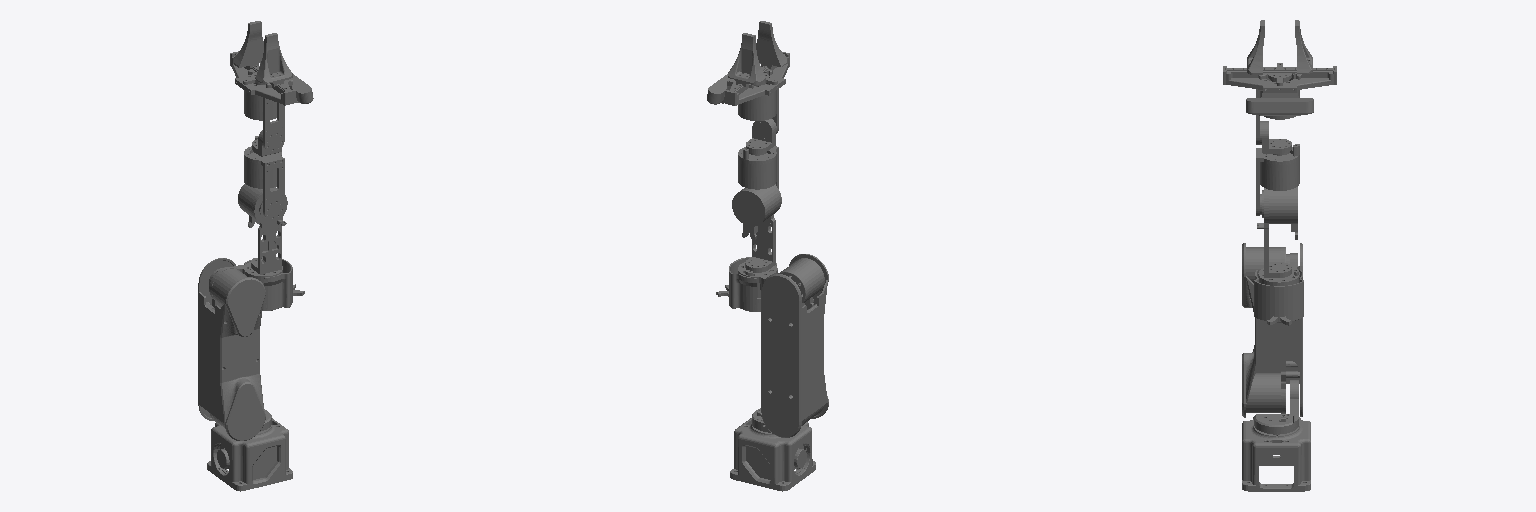
robot.urdf — dummy_real_v3:
<?xml version="1.0" encoding="utf-8"?>
<robot
  name="dummy_real_v3">
  <link
    name="base_link">
    <inertial>
      <origin
        xyz="-0.00530922969443533 -9.54427782774664E-10 0.0424590353863738"
        rpy="0 0 0" />
      <mass
        value="0.235337478735073" />
      <inertia
        ixx="0.0004268883293542"
        ixy="3.55599092214791E-12"
        ixz="-3.71756735718952E-06"
        iyy="0.000388960257655424"
        iyz="3.5130219794007E-12"
        izz="0.000512654064251891" />
    </inertial>
    <visual>
      <origin
        xyz="0 0 0"
        rpy="0 0 0" />
      <geometry>
        <mesh
          filename="package://dummy_real_v3/meshes/base_link.STL" />
      </geometry>
      <material
        name="">
        <color
          rgba="0.5 0.5 0.5 1" />
      </material>
    </visual>
    <collision>
      <origin
        xyz="0 0 0"
        rpy="0 0 0" />
      <geometry>
        <mesh
          filename="package://dummy_real_v3/meshes/base_link.STL" />
      </geometry>
    </collision>
  </link>
  <link
    name="link1">
    <inertial>
      <origin
        xyz="-0.00727417588436838 0.00858231872334255 0.013378368944447"
        rpy="0 0 0" />
      <mass
        value="0.0580677769434733" />
      <inertia
        ixx="1.40424233623952E-05"
        ixy="1.01824370712838E-06"
        ixz="1.61301333371733E-06"
        iyy="1.77023501193234E-05"
        iyz="4.55309910198845E-07"
        izz="2.24916401315137E-05" />
    </inertial>
    <visual>
      <origin
        xyz="0 0 0"
        rpy="0 0 0" />
      <geometry>
        <mesh
          filename="package://dummy_real_v3/meshes/link1.STL" />
      </geometry>
      <material
        name="">
        <color
          rgba="0.5 0.5 0.5 1" />
      </material>
    </visual>
    <collision>
      <origin
        xyz="0 0 0"
        rpy="0 0 0" />
      <geometry>
        <mesh
          filename="package://dummy_real_v3/meshes/link1.STL" />
      </geometry>
    </collision>
  </link>
  <joint
    name="joint1"
    type="revolute">
    <origin
      xyz="-0.000340196020443223 0 0.0819999999999999"
      rpy="0 0 0" />
    <parent
      link="base_link" />
    <child
      link="link1" />
    <axis
      xyz="0 0 1" />
    <limit
      lower="-3.071779"
      upper="3.071779"
      effort="3"
      velocity="3" />
  </joint>
  <link
    name="link2">
    <inertial>
      <origin
        xyz="-0.000824136655185166 -0.101475729448957 -0.0285873328510396"
        rpy="0 0 0" />
      <mass
        value="0.532653803157237" />
      <inertia
        ixx="0.00127151957983072"
        ixy="3.16499522127297E-05"
        ixz="2.26604492707342E-06"
        iyy="0.000286619783603363"
        iyz="-9.18747440144036E-07"
        izz="0.00137486519509099" />
    </inertial>
    <visual>
      <origin
        xyz="0 0 0"
        rpy="0 0 0" />
      <geometry>
        <mesh
          filename="package://dummy_real_v3/meshes/link2.STL" />
      </geometry>
      <material
        name="">
        <color
          rgba="0.5 0.5 0.5 1" />
      </material>
    </visual>
    <collision>
      <origin
        xyz="0 0 0"
        rpy="0 0 0" />
      <geometry>
        <mesh
          filename="package://dummy_real_v3/meshes/link2.STL" />
      </geometry>
    </collision>
  </link>
  <joint
    name="joint2"
    type="revolute">
    <origin
      xyz="-0.035 0.0194999999999999 0.0345"
      rpy="-1.5707963267949 0 0" />
    <parent
      link="link1" />
    <child
      link="link2" />
    <axis
      xyz="0 0 -1" />
    <limit
      lower="-1.3963"
      upper="1.570796"
      effort="3"
      velocity="3" />
  </joint>
  <link
    name="link3">
    <inertial>
      <origin
        xyz="0.0582477050339709 0.0100694671586189 -0.000116881848019139"
        rpy="0 0 0" />
      <mass
        value="0.203892843907049" />
      <inertia
        ixx="0.000110786626804024"
        ixy="-9.63365893119795E-06"
        ixz="1.74520214886043E-05"
        iyy="0.000167661284757176"
        iyz="3.7943114152685E-06"
        izz="0.000162730174644392" />
    </inertial>
    <visual>
      <origin
        xyz="0 0 0"
        rpy="0 0 0" />
      <geometry>
        <mesh
          filename="package://dummy_real_v3/meshes/link3.STL" />
      </geometry>
      <material
        name="">
        <color
          rgba="0.5 0.5 0.5 1" />
      </material>
    </visual>
    <collision>
      <origin
        xyz="0 0 0"
        rpy="0 0 0" />
      <geometry>
        <mesh
          filename="package://dummy_real_v3/meshes/link3.STL" />
      </geometry>
    </collision>
  </link>
  <joint
    name="joint3"
    type="revolute">
    <origin
      xyz="1.08500777998982E-05 -0.2009945749611 -0.014"
      rpy="0 0 0" />
    <parent
      link="link2" />
    <child
      link="link3" />
    <axis
      xyz="0 0 1" />
    <limit
      lower="-3.071779"
      upper="0.0"
      effort="3"
      velocity="3" />
  </joint>
  <link
    name="link4">
    <inertial>
      <origin
        xyz="0.000151394130845781 -0.00316138683917015 0.0894516362098563"
        rpy="0 0 0" />
      <mass
        value="0.195316195681008" />
      <inertia
        ixx="0.000264849336427073"
        ixy="1.90670538490485E-07"
        ixz="1.34189144308529E-07"
        iyy="0.00026086985947404"
        iyz="-2.00279897565163E-05"
        izz="7.70829382609287E-05" />
    </inertial>
    <visual>
      <origin
        xyz="0 0 0"
        rpy="0 0 0" />
      <geometry>
        <mesh
          filename="package://dummy_real_v3/meshes/link4.STL" />
      </geometry>
      <material
        name="">
        <color
          rgba="0.5 0.5 0.5 1" />
      </material>
    </visual>
    <collision>
      <origin
        xyz="0 0 0"
        rpy="0 0 0" />
      <geometry>
        <mesh
          filename="package://dummy_real_v3/meshes/link4.STL" />
      </geometry>
    </collision>
  </link>
  <joint
    name="joint4"
    type="revolute">
    <origin
      xyz="0.0599999999999971 -0.0215050042651967 -0.0019912233216972"
      rpy="1.5707963267949 0 0" />
    <parent
      link="link3" />
    <child
      link="link4" />
    <axis
      xyz="0 0 1" />
    <limit
      lower="-1.962"
      upper="1.864"
      effort="3"
      velocity="3" />
  </joint>
  <link
    name="link5">
    <inertial>
      <origin
        xyz="4.18496989203869E-05 0.0531120806631206 -0.0244911843420911"
        rpy="0 0 0" />
      <mass
        value="0.13451985055148" />
      <inertia
        ixx="5.89904720803095E-05"
        ixy="1.90835646214316E-12"
        ixz="-3.44874056234405E-09"
        iyy="5.26518946126007E-05"
        iyz="-4.19288036578529E-07"
        izz="6.06390991313602E-05" />
    </inertial>
    <visual>
      <origin
        xyz="0 0 0"
        rpy="0 0 0" />
      <geometry>
        <mesh
          filename="package://dummy_real_v3/meshes/link5.STL" />
      </geometry>
      <material
        name="">
        <color
          rgba="0.5 0.5 0.5 1" />
      </material>
    </visual>
    <collision>
      <origin
        xyz="0 0 0"
        rpy="0 0 0" />
      <geometry>
        <mesh
          filename="package://dummy_real_v3/meshes/link5.STL" />
      </geometry>
    </collision>
  </link>
  <joint
    name="joint5"
    type="revolute">
    <origin
      xyz="0 -0.0274999993896498 0.10652586267682"
      rpy="1.5707963267949 0 0" />
    <parent
      link="link4" />
    <child
      link="link5" />
    <axis
      xyz="0 0 1" />
    <limit
      lower="-1.920"
      upper="1.57"
      effort="3"
      velocity="3" />
  </joint>
  <link
    name="link6">
    <inertial>
      <origin
        xyz="-7.15704231990522E-11 -0.00557266324183965 0.0805997468456355"
        rpy="0 0 0" />
      <mass
        value="0.159075855059689" />
      <inertia
        ixx="6.63647316437247E-05"
        ixy="-1.41596221396415E-14"
        ixz="3.69445074532846E-13"
        iyy="6.67951688886097E-05"
        iyz="2.63614832357626E-06"
        izz="5.83482258899856E-05" />
    </inertial>
    <visual>
      <origin
        xyz="0 0 0"
        rpy="0 0 0" />
      <geometry>
        <mesh
          filename="package://dummy_real_v3/meshes/link6.STL" />
      </geometry>
      <material
        name="">
        <color
          rgba="0.5 0.5 0.5 1" />
      </material>
    </visual>
    <collision>
      <origin
        xyz="0 0 0"
        rpy="0 0 0" />
      <geometry>
        <mesh
          filename="package://dummy_real_v3/meshes/link6.STL" />
      </geometry>
    </collision>
  </link>
  <joint
    name="joint6"
    type="revolute">
    <origin
      xyz="0 0.0754999999999758 -0.0285241372319494"
      rpy="-1.5707963267949 0 0" />
    <parent
      link="link5" />
    <child
      link="link6" />
    <axis
      xyz="0 0 1" />
    <limit
      lower="-2.287"
      upper="1.703"
      effort="0"
      velocity="3" />
  </joint>
  <link
    name="link7">
    <inertial>
      <origin
        xyz="-3.2628760804343E-13 5.97168692800798E-07 0.00674485506613332"
        rpy="0 0 0" />
      <mass
        value="0.0730012394118658" />
      <inertia
        ixx="0.000143023815553855"
        ixy="2.3727950354666E-08"
        ixz="2.56317031691755E-15"
        iyy="1.75139782233878E-05"
        iyz="1.16009104077106E-10"
        izz="0.000158524488899376" />
    </inertial>
    <visual>
      <origin
        xyz="0 0 0"
        rpy="0 0 0" />
      <geometry>
        <mesh
          filename="package://dummy_real_v3/meshes/link7.STL" />
      </geometry>
      <material
        name="">
        <color
          rgba="0.5 0.5 0.5 1" />
      </material>
    </visual>
    <collision>
      <origin
        xyz="0 0 0"
        rpy="0 0 0" />
      <geometry>
        <mesh
          filename="package://dummy_real_v3/meshes/link7.STL" />
      </geometry>
    </collision>
  </link>
  <joint
    name="joint7"
    type="fixed">
    <origin
      xyz="0 0.000149999389645419 0.1194999984068"
      rpy="0 0 0" />
    <parent
      link="link6" />
    <child
      link="link7" />
    <axis
      xyz="0 0 0" />
  </joint>
  <link
    name="link8">
    <inertial>
      <origin
        xyz="0.000383623787000666 -0.00773418556885568 0.0191483730693133"
        rpy="0 0 0" />
      <mass
        value="0.0277487200693428" />
      <inertia
        ixx="1.01052433994614E-05"
        ixy="4.34763531418752E-08"
        ixz="2.15424955071654E-07"
        iyy="1.35521961193831E-05"
        iyz="-1.60833234561139E-06"
        izz="5.60883650981364E-06" />
    </inertial>
    <visual>
      <origin
        xyz="0 0 0"
        rpy="0 0 0" />
      <geometry>
        <mesh
          filename="package://dummy_real_v3/meshes/link8.STL" />
      </geometry>
      <material
        name="">
        <color
          rgba="0.5 0.5 0.5 1" />
      </material>
    </visual>
    <collision>
      <origin
        xyz="0 0 0"
        rpy="0 0 0" />
      <geometry>
        <mesh
          filename="package://dummy_real_v3/meshes/link8.STL" />
      </geometry>
    </collision>
  </link>
  <joint
    name="joint8"
    type="prismatic">
    <origin
      xyz="0 -0.0238309999999988 0.0240000000292074"
      rpy="0 0 0" />
    <parent
      link="link7" />
    <child
      link="link8" />
    <axis
      xyz="0 1 0" />
    <limit
      lower="-0.03"
      upper="0.02"
      effort="0.03"
      velocity="3" />
  </joint>
  <link
    name="link9">
    <inertial>
      <origin
        xyz="-0.000383623787000624 0.00773418556885568 0.0191483730693133"
        rpy="0 0 0" />
      <mass
        value="0.0277487200693428" />
      <inertia
        ixx="1.01052433994615E-05"
        ixy="4.34763531418713E-08"
        ixz="-2.15424955071637E-07"
        iyy="1.35521961193831E-05"
        iyz="1.60833234561137E-06"
        izz="5.60883650981377E-06" />
    </inertial>
    <visual>
      <origin
        xyz="0 0 0"
        rpy="0 0 0" />
      <geometry>
        <mesh
          filename="package://dummy_real_v3/meshes/link9.STL" />
      </geometry>
      <material
        name="">
        <color
          rgba="0.5 0.5 0.5 1" />
      </material>
    </visual>
    <collision>
      <origin
        xyz="0 0 0"
        rpy="0 0 0" />
      <geometry>
        <mesh
          filename="package://dummy_real_v3/meshes/link9.STL" />
      </geometry>
    </collision>
  </link>
  <joint
    name="joint9"
    type="prismatic">
    <origin
      xyz="0 0.0238310000000012 0.0240000000292074"
      rpy="0 0 0" />
    <parent
      link="link7" />
    <child
      link="link9" />
    <axis
      xyz="0 -1 0" />
    <limit
      lower="-0.03"
      upper="0.02"
      effort="0.03"
      velocity="3" />
    <mimic
      joint="joint8"
      multiplier="1"
      offset="0" />
  </joint>
  <link
    name="camera_link">
    <inertial>
      <origin
        xyz="-0.00134267172068775 6.36643515683488E-16 -0.00996409342222659"
        rpy="0 0 0" />
      <mass
        value="0.0505252272200423" />
      <inertia
        ixx="3.63739054216545E-05"
        ixy="4.96628791761714E-20"
        ixz="3.11566193617539E-07"
        iyy="4.53745932663037E-06"
        iyz="3.75324673686834E-20"
        izz="3.59554328549467E-05" />
    </inertial>
    <visual>
      <origin
        xyz="0 0 0"
        rpy="0 0 0" />
      <geometry>
        <mesh
          filename="package://dummy_real_v3/meshes/camera_link.STL" />
      </geometry>
      <material
        name="">
        <color
          rgba="0.5 0.5 0.5 1" />
      </material>
    </visual>
    <collision>
      <origin
        xyz="0 0 0"
        rpy="0 0 0" />
      <geometry>
        <mesh
          filename="package://dummy_real_v3/meshes/camera_link.STL" />
      </geometry>
    </collision>
  </link>
  <joint
    name="camera_joint"
    type="fixed">
    <origin
      xyz="0.0500408264033172 0 -0.00489670019870858"
      rpy="0 -0.174532925199404 0" />
    <parent
      link="link7" />
    <child
      link="camera_link" />
    <axis
      xyz="0 0 0" />
  </joint>
</robot>

--- What the picture shows (computed from the rendered views, not written in the file) ---
3 views of the same robot in one strip: view 1: azimuth 30°, elevation 25°; view 2: azimuth 150°, elevation 25°; view 3: azimuth 270°, elevation 25° (orthographic).
Model dummy_real_v3 with 11 links and 10 joints (6 revolute, 2 prismatic, 2 fixed), rooted at base_link, posed all joints at 0.
Visible links, largest first — view 1: link2, base_link, link4, link5, link6, link3, link7, link8, link9; view 2: link2, base_link, link4, link6, link3, link5, link7, link9, link8; view 3: link2, base_link, link3, link7, link4, link5, camera_link, link1, link6, link8, link9.
Link boxes in pixels (x1,y1,x2,y2): link2: (198, 258, 265, 440); base_link: (207, 418, 292, 491); link4: (238, 184, 287, 274); link5: (244, 136, 284, 220); link6: (244, 83, 284, 156); link3: (209, 257, 304, 310); link7: (230, 51, 295, 105); link8: (255, 33, 292, 86); link9: (233, 21, 263, 68); link2: (761, 254, 828, 437); base_link: (730, 418, 815, 491); link4: (732, 185, 781, 272); link6: (738, 83, 778, 155); link3: (716, 257, 795, 311); link5: (738, 146, 778, 189); link7: (725, 51, 789, 105); link9: (728, 33, 765, 86); link8: (756, 21, 786, 68); link2: (1242, 243, 1302, 417); base_link: (1242, 417, 1310, 491); link3: (1254, 253, 1303, 325); link7: (1223, 63, 1336, 90); link4: (1257, 187, 1297, 277); link5: (1256, 144, 1299, 215); camera_link: (1246, 87, 1313, 115); link1: (1254, 380, 1298, 434); link6: (1256, 78, 1299, 155); link8: (1247, 20, 1264, 74); link9: (1295, 20, 1312, 73).
Size in the robot's own frame: 0.1594 by 0.165 by 0.7335 metres.
11 mesh visuals loaded from 11 distinct referenced files (11 binary STL).
